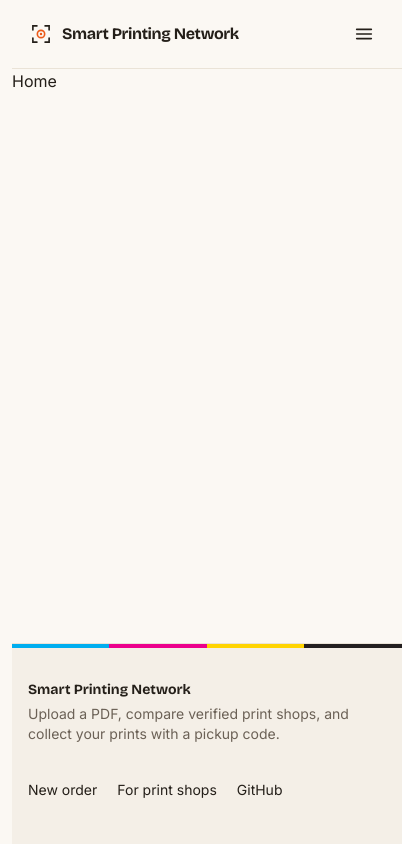
Test: Layout › offers a skip link and an accessible mobile menu
Step 1. Click the button named "Open menu" → (364, 34), box [342,12,386,56]
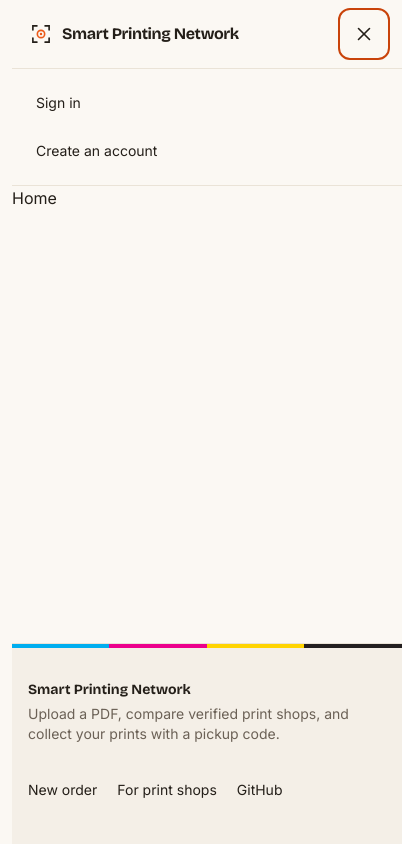
Expected: the button named "Close menu" is expanded, [342,12,386,56]
Expected: the number of links "Sign in" is 2
Step 2. Click the link "Sign in" → (58, 102), box [36,94,81,111]
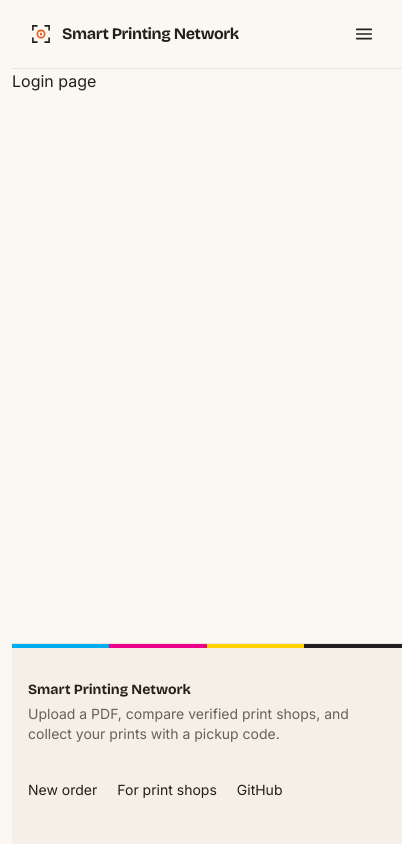
Expected: the text "Login page" is shown, [12,71,96,91]
